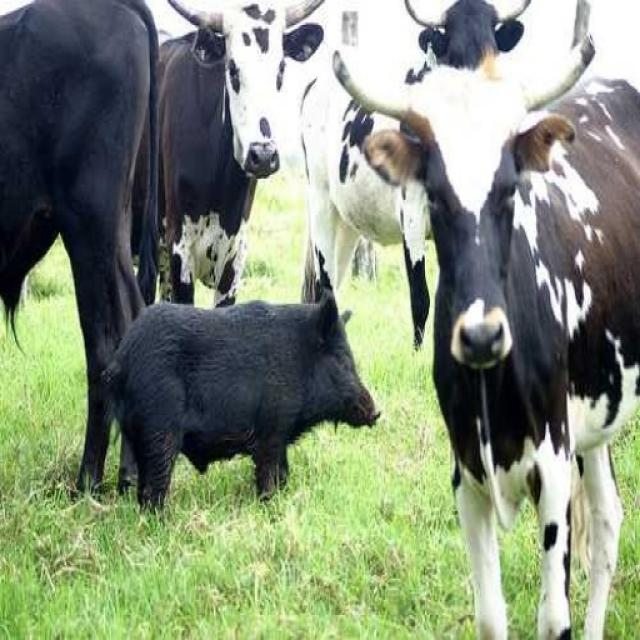pig: (82, 249, 397, 539)
